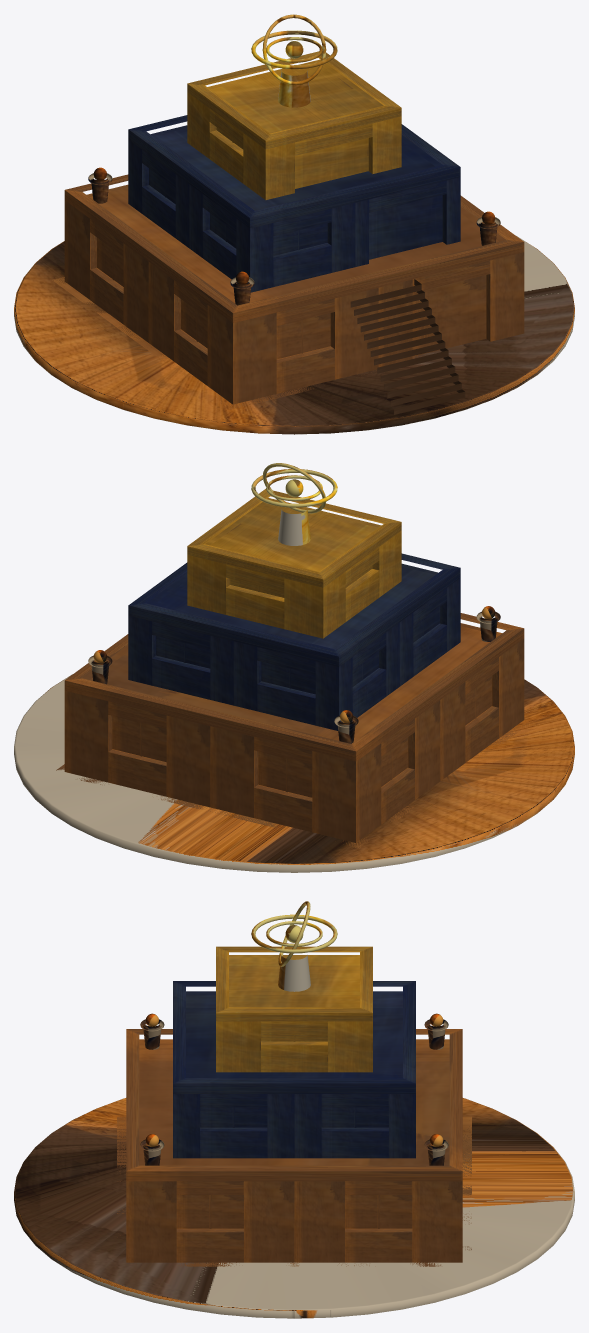
3 renders of one model, top to bottom at view 1: azimuth 30°, elevation 25°; view 2: azimuth 150°, elevation 25°; view 3: azimuth 270°, elevation 25°, orthographic.
Parts seen in each view (by area): view 1: Tier1_Foundation, Studio_Pedestal, Tier2_Lapis, Tier3_Sanctuary, GrandStaircase, torus (×2), Braziers, cylinder; view 2: Tier1_Foundation, Studio_Pedestal, Tier2_Lapis, Tier3_Sanctuary, torus (×2), Braziers, cylinder; view 3: Studio_Pedestal, Tier1_Foundation, Tier2_Lapis, Tier3_Sanctuary, Braziers, cylinder, torus, FireEmbers.
Part boxes in pixels (box(x1,y1,x2,y2)): Tier1_Foundation: box(52, 174, 524, 409); Studio_Pedestal: box(14, 236, 574, 434); Tier2_Lapis: box(128, 115, 460, 292); Tier3_Sanctuary: box(187, 51, 401, 199); GrandStaircase: box(350, 279, 465, 414); torus (×2): box(251, 14, 337, 85); Braziers: box(88, 173, 500, 305); cylinder: box(278, 70, 310, 107); Tier1_Foundation: box(56, 613, 524, 848); Studio_Pedestal: box(14, 674, 574, 872); Tier2_Lapis: box(128, 553, 460, 730); Tier3_Sanctuary: box(187, 489, 401, 638); torus (×2): box(251, 463, 337, 513); Braziers: box(88, 611, 500, 743); cylinder: box(278, 508, 310, 545); Studio_Pedestal: box(14, 1098, 574, 1318); Tier1_Foundation: box(117, 1029, 471, 1266); Tier2_Lapis: box(173, 981, 415, 1158); Tier3_Sanctuary: box(216, 946, 372, 1072); Braziers: box(140, 1019, 448, 1165); cylinder: box(278, 955, 310, 991); torus: box(251, 914, 337, 953); FireEmbers: box(145, 1013, 443, 1146).
Bounding box in the file's own units: 15 × 8.71 × 15.
Materials: 12 (12 with a texture image).
